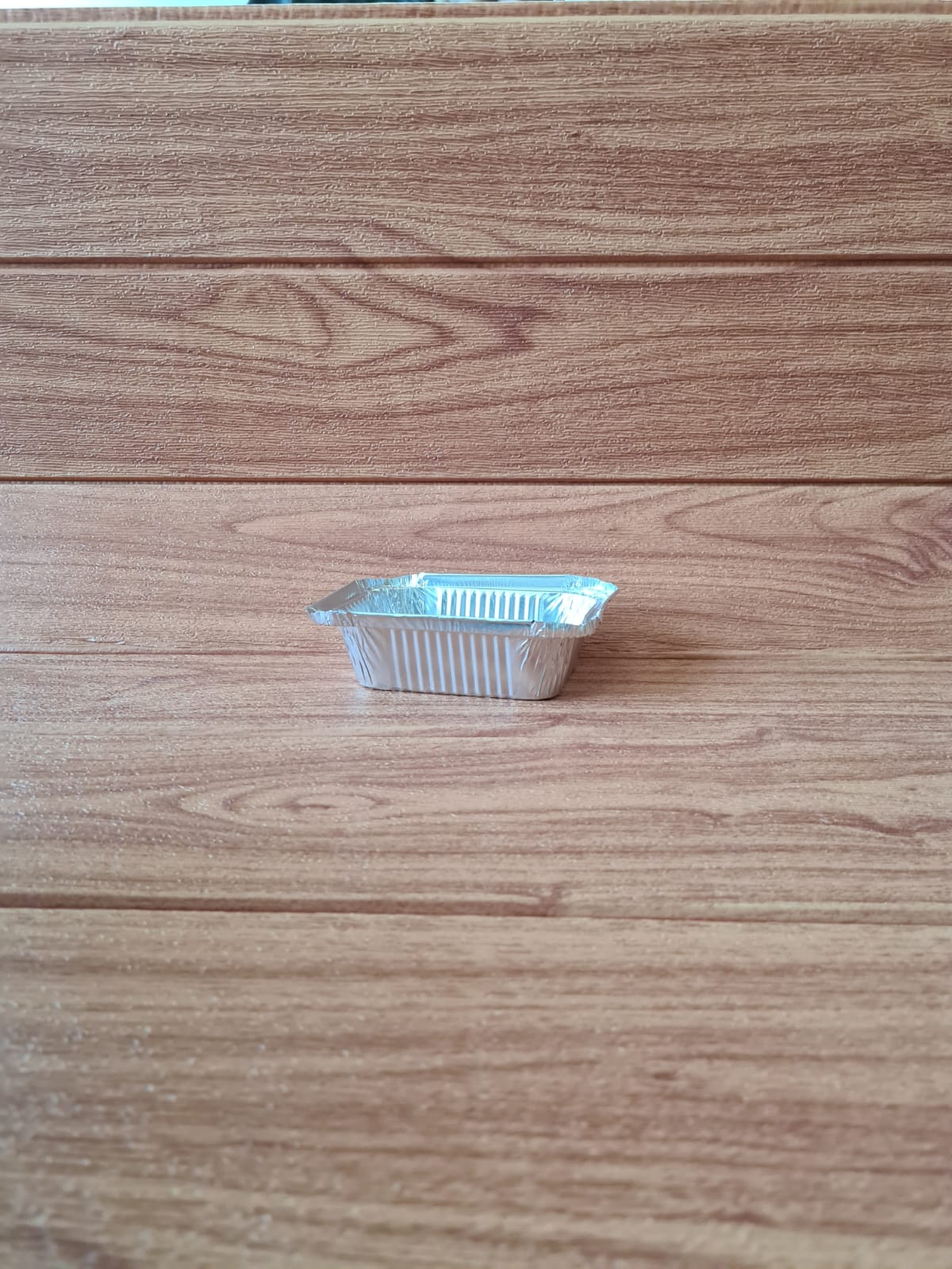Metal: (305, 561, 624, 704)
